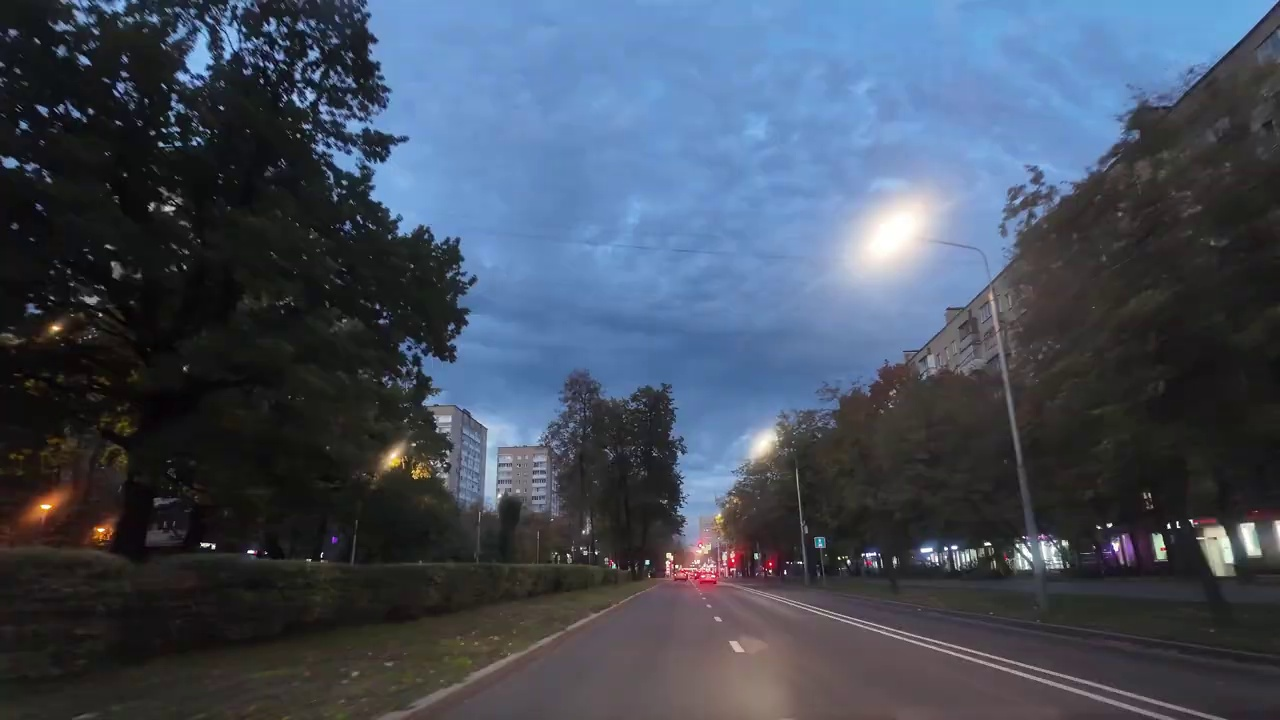acesa: (864, 207, 925, 265), (746, 427, 785, 465)
